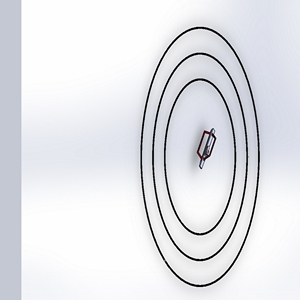circle: (136, 21, 272, 293)
submarine: (188, 120, 221, 171)
